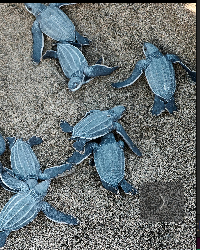turtle: (112, 41, 196, 117), (0, 172, 77, 250), (40, 43, 119, 104), (61, 105, 143, 158), (69, 133, 134, 197), (24, 3, 91, 62), (3, 135, 70, 189)
